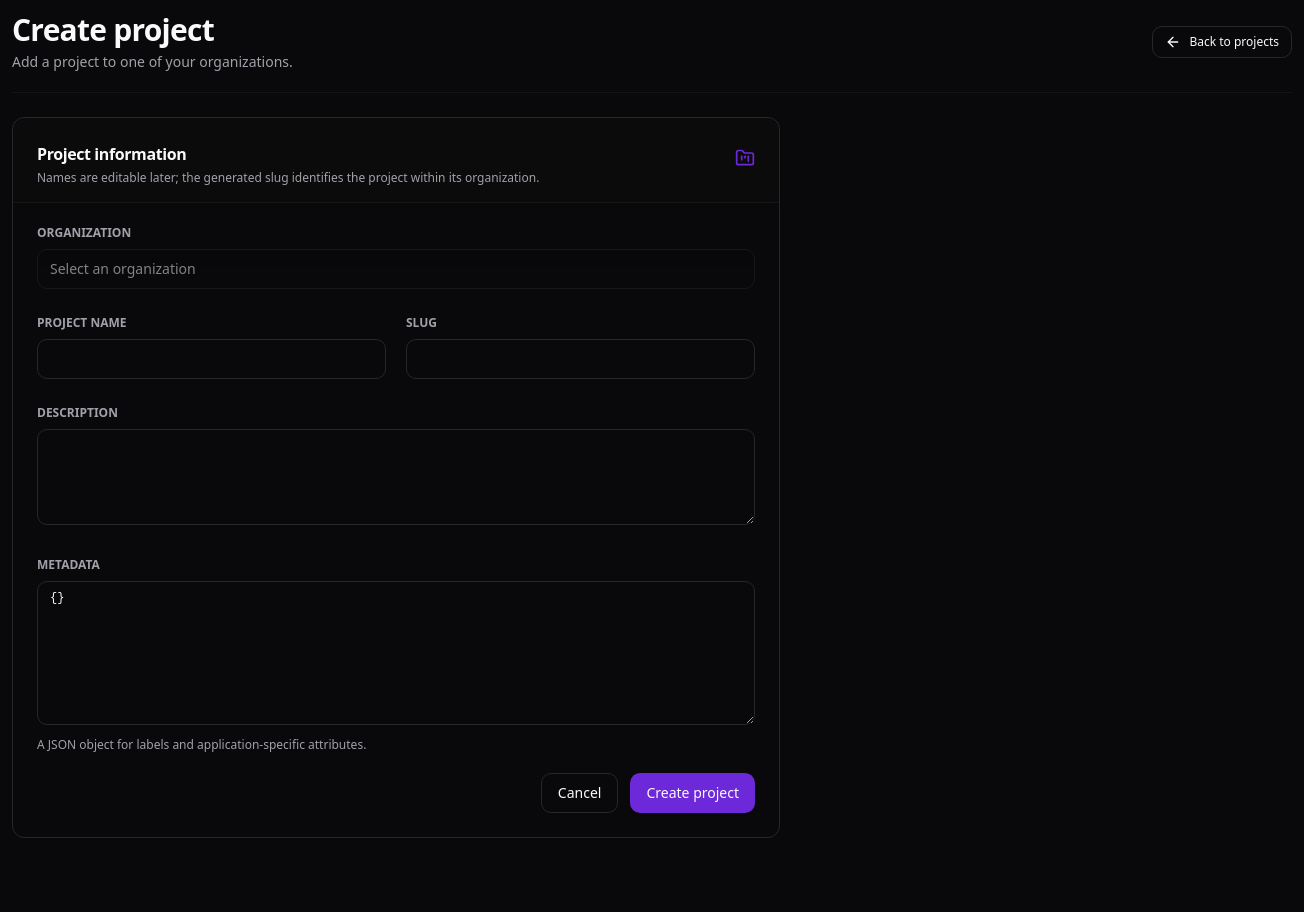
Project management › validates creation fields and metadata JSON before submitting
The width and height of the screenshot is (1304, 912).
Click the button "Create project": (693,793) [630,773,755,813]
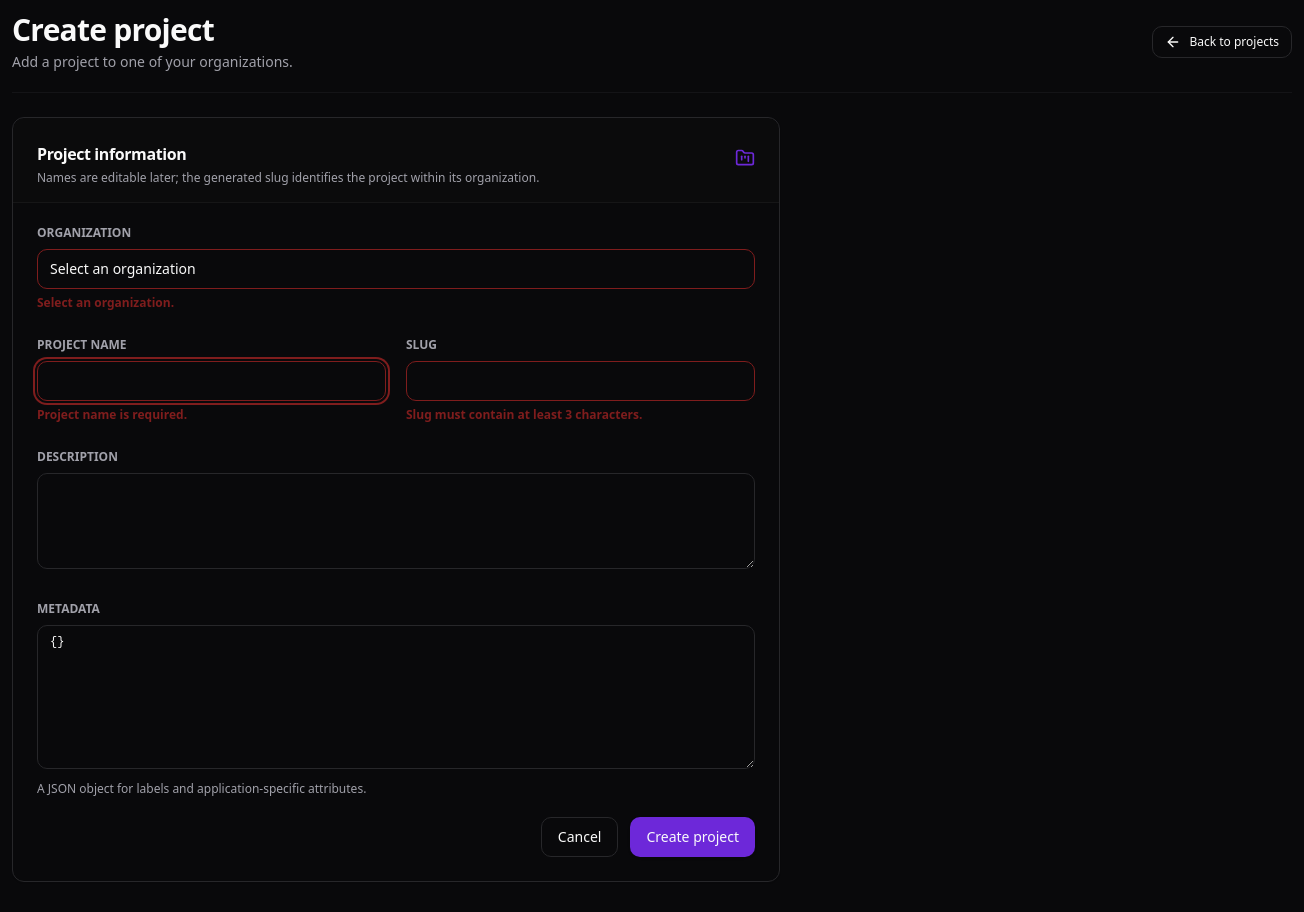
expect the text "Select an organization." is shown: met, box [37,294,174,311]
expect the text "Project name is required." is shown: met, box [37,406,187,423]
Replace the text in the text box labelled "Metadata" with "[]": (396,697) [37,625,755,769]
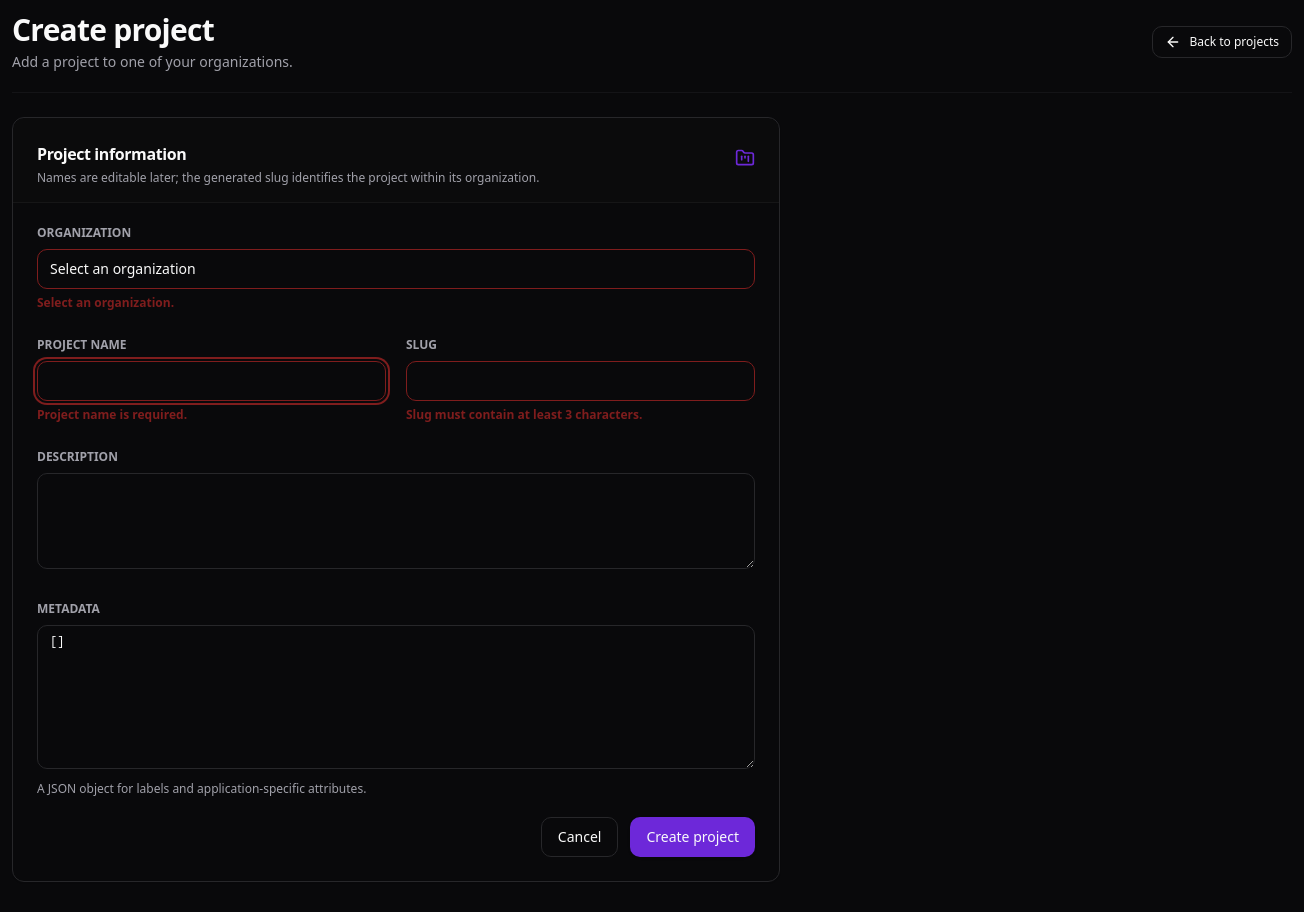
Click the button "Create project": (693,837) [630,817,755,857]
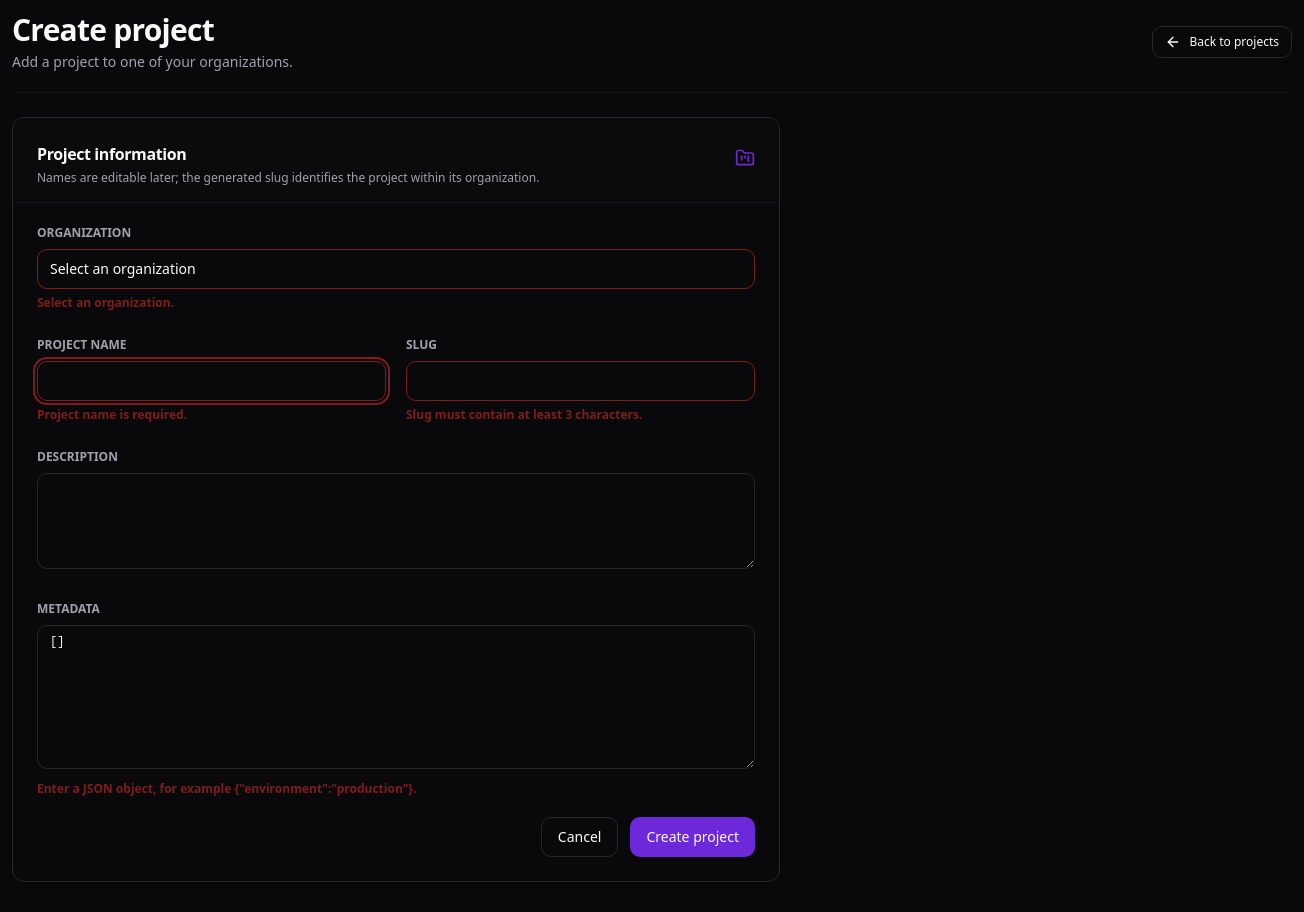
expect the text "Enter a JSON object, for example {\"environment\":\"production\"}." is shown: met, box [37,780,416,797]
